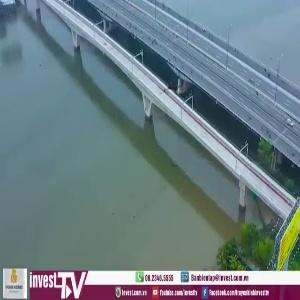drone: (153, 71, 193, 111)
